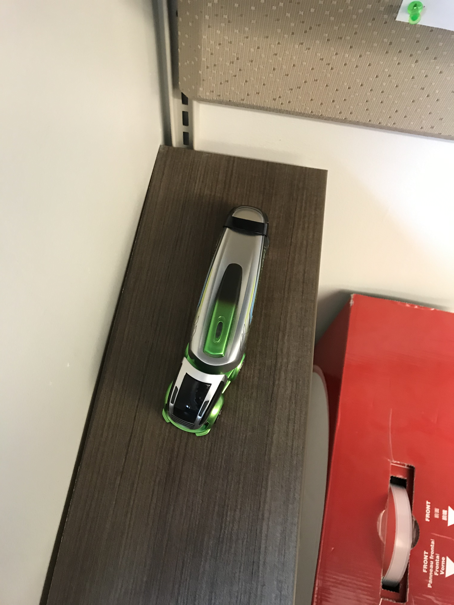Freewheel: (160, 206, 270, 436)
